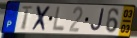2: (67, 6, 84, 34)
6: (105, 7, 120, 35)
J: (90, 8, 105, 33)
L: (51, 6, 66, 33)
T: (21, 5, 34, 31)
X: (31, 5, 53, 33)
